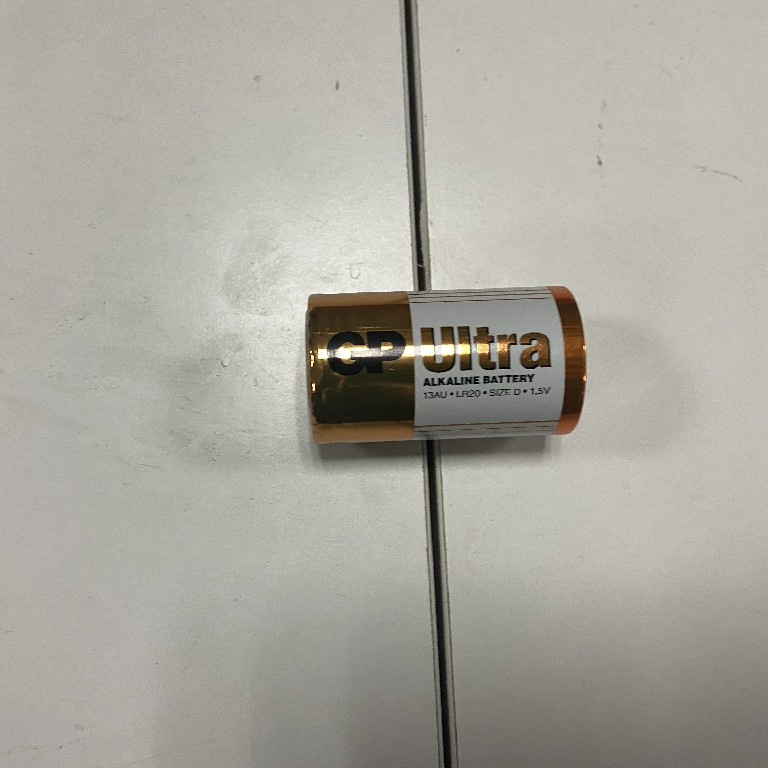charge: (294, 279, 590, 451)
